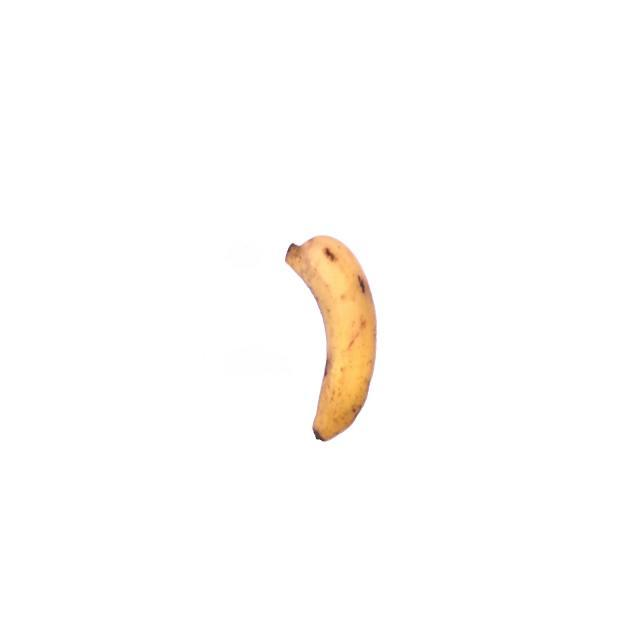banana: (282, 230, 380, 447)
